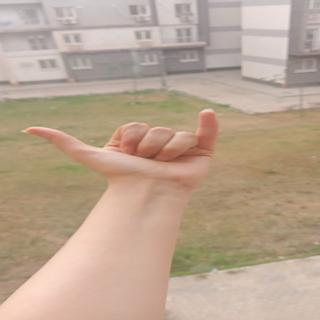YA: (13, 108, 252, 184)
